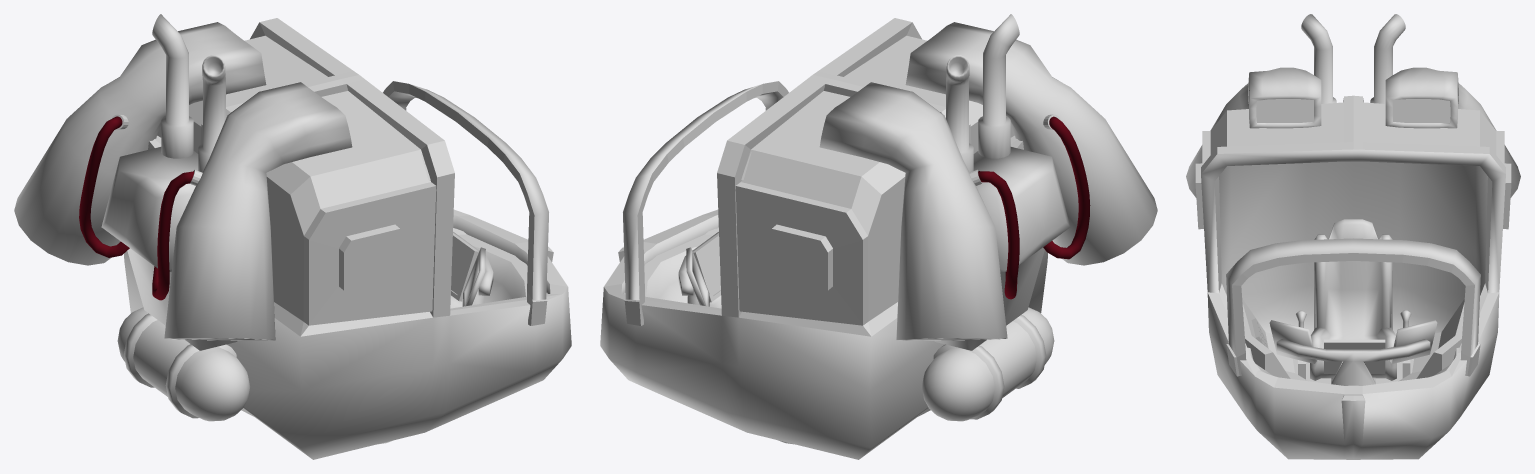
Rendered from cockpit_test.fbx.
3 views of the same model, side by side, from view 1: azimuth 30°, elevation 25°; view 2: azimuth 150°, elevation 25°; view 3: azimuth 270°, elevation 25° (orthographic). The views are drawn at different scales.
Visible parts, largest first — view 1: cockpit, jet_pack_assembly, fuel_cell, exhaust_pipes, cockpit_mount, cockpit_inside, fuel_line1, fuel_line2, center_panel, Cube.001; view 2: cockpit, jet_pack_assembly, fuel_cell, exhaust_pipes, cockpit_mount, cockpit_inside, fuel_line2, fuel_line1, center_panel, Cube.001; view 3: cockpit, cockpit_inside, jet_pack_assembly, cockpit_mount, Cube, center_panel, side_panels, exhaust_pipes, Cube.001.
Boxes of the visible parts, box(x1,y1,x2,y2) form: cockpit: box(124, 18, 571, 459); jet_pack_assembly: box(14, 22, 352, 350); fuel_cell: box(117, 307, 250, 421); exhaust_pipes: box(152, 14, 225, 172); cockpit_mount: box(383, 81, 548, 325); cockpit_inside: box(420, 152, 547, 303); fuel_line1: box(79, 116, 129, 257); fuel_line2: box(152, 171, 193, 300); center_panel: box(450, 232, 493, 308); Cube.001: box(451, 233, 478, 301); cockpit: box(600, 18, 1047, 459); jet_pack_assembly: box(819, 22, 1157, 350); fuel_cell: box(921, 307, 1054, 421); exhaust_pipes: box(946, 14, 1019, 172); cockpit_mount: box(623, 81, 788, 325); cockpit_inside: box(624, 152, 751, 303); fuel_line2: box(1043, 116, 1090, 259); fuel_line1: box(978, 171, 1019, 299); center_panel: box(678, 232, 721, 308); Cube.001: box(693, 233, 720, 302); cockpit: box(1195, 95, 1511, 459); cockpit_inside: box(1219, 161, 1487, 383); jet_pack_assembly: box(1186, 67, 1520, 197); cockpit_mount: box(1226, 238, 1480, 376); Cube: box(1310, 219, 1396, 380); center_panel: box(1269, 320, 1437, 385); side_panels: box(1242, 299, 1464, 381); exhaust_pipes: box(1301, 14, 1405, 103); Cube.001: box(1324, 339, 1385, 373).
Bounding box in the file's own units: 312 × 285 × 246.
